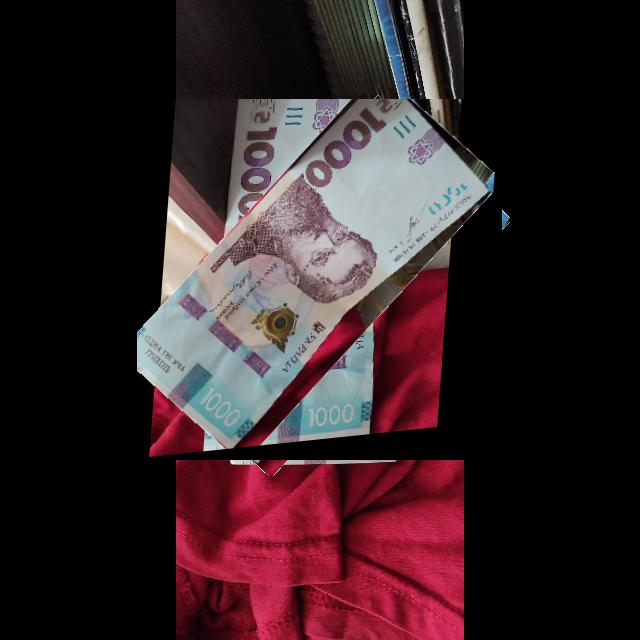1000uah: (137, 99, 496, 452)
